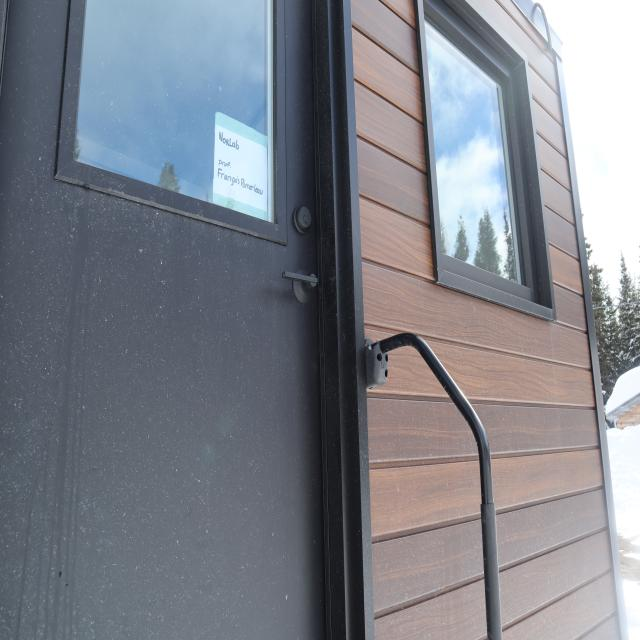door-handle: (282, 272, 318, 304)
